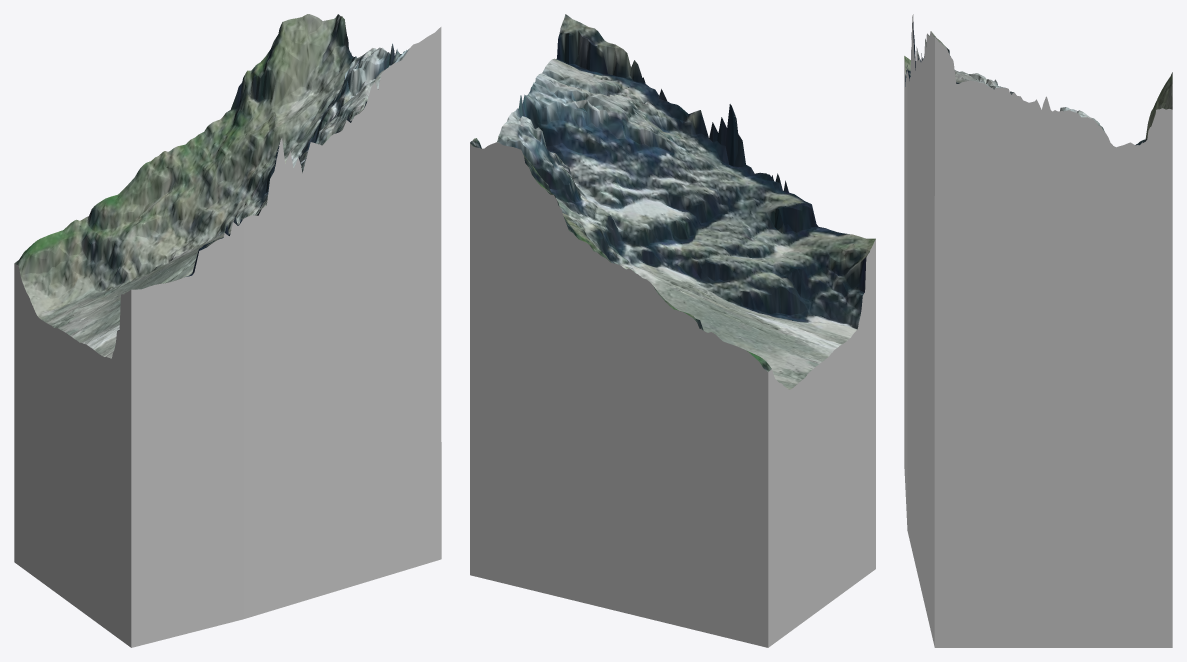
The model's file is GrindScene16.gltf.
3 renders of one model, left to right at view 1: azimuth 30°, elevation 25°; view 2: azimuth 150°, elevation 25°; view 3: azimuth 270°, elevation 25°, orthographic. The views are drawn at different scales.
Parts seen in each view (by area): view 1: Plane; view 2: Plane; view 3: Plane.
Part boxes in pixels (x1,y1,x2,y2): Plane: [14, 14, 441, 647]; Plane: [470, 14, 875, 647]; Plane: [904, 14, 1172, 647].
Size of the model in its own units: 0.6 by 0.9449 by 0.3756.
2 materials, 1 textured.
